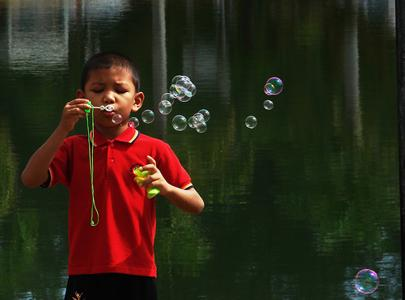person: (21, 55, 209, 300)
